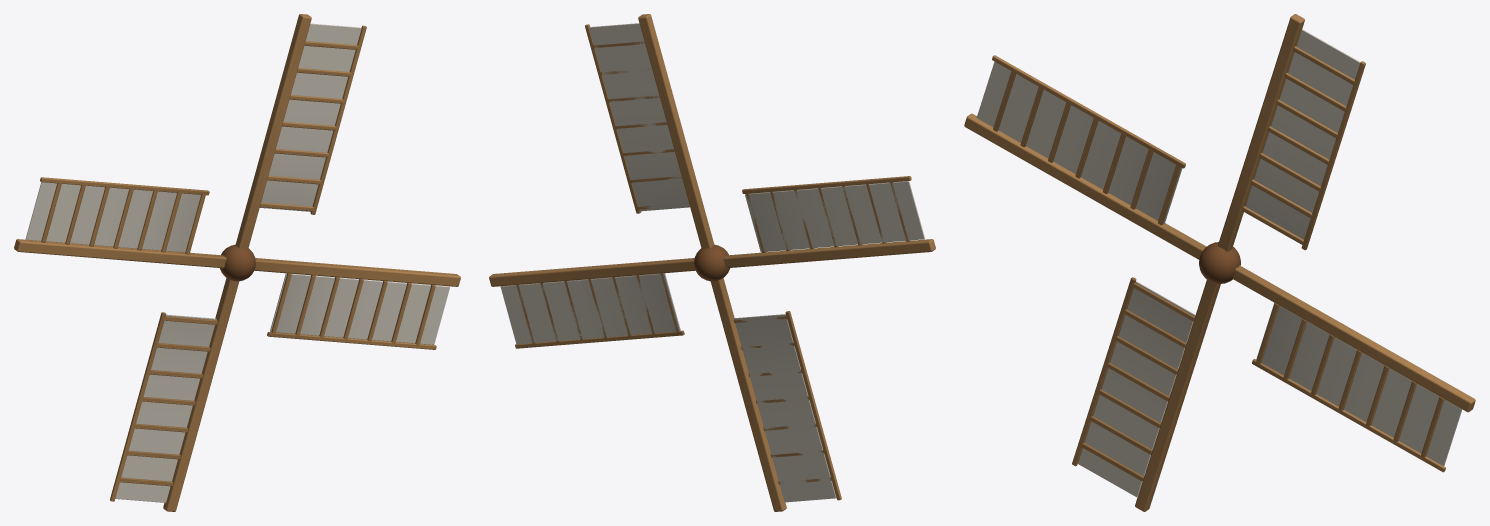
File: windmill_sails.glb
The picture shows the model from 3 angles, left to right: view 1: azimuth 30°, elevation 25°; view 2: azimuth 150°, elevation 25°; view 3: azimuth 330°, elevation 25°; orthographic projection. The views are drawn at different scales.
Visible parts, largest first — view 1: windmill_sails; view 2: windmill_sails; view 3: windmill_sails.
Part boxes in pixels (x1,y1,x2,y2): windmill_sails: (14, 14, 460, 511); windmill_sails: (489, 14, 935, 511); windmill_sails: (964, 14, 1475, 511).
Bounding box in the file's own units: 4.42 × 4.42 × 0.32.
